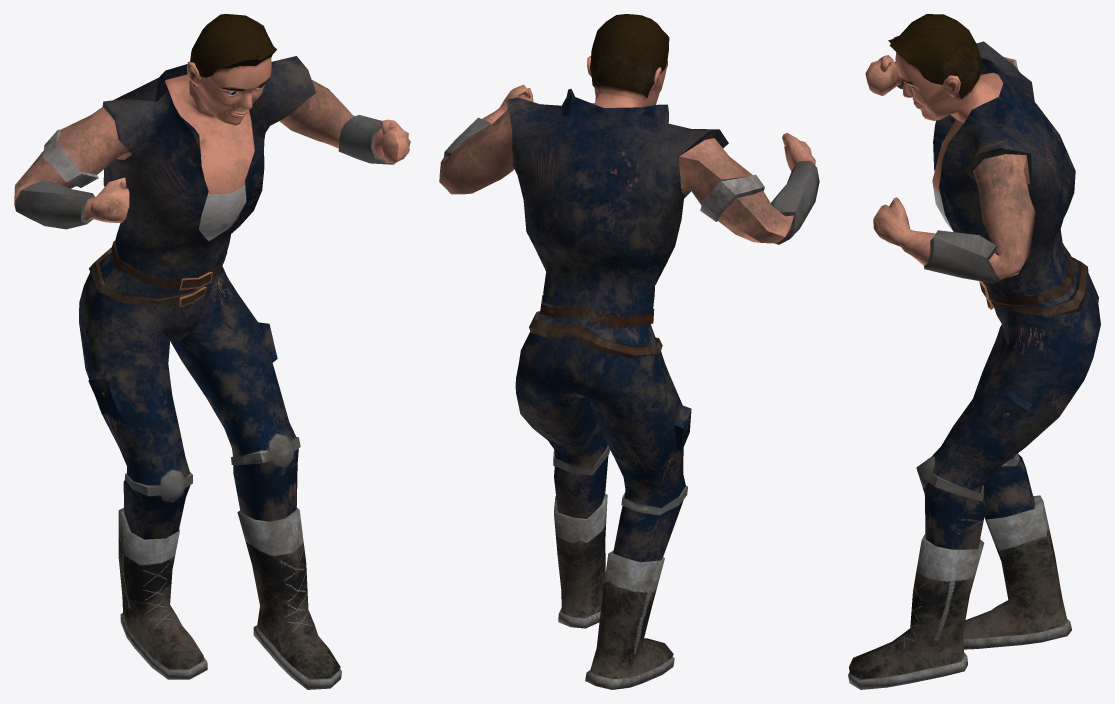
Rendered from Anim_ataque_d3_jugador.0040.obj.
3 renders of one model, left to right at view 1: azimuth 30°, elevation 25°; view 2: azimuth 150°, elevation 25°; view 3: azimuth 270°, elevation 25°, orthographic. The views are drawn at different scales.
Parts seen in each view (by area): view 1: polySurface1; view 2: polySurface1; view 3: polySurface1.
Part boxes in pixels (box(x1,y1,x2,y2)): polySurface1: box(14, 14, 410, 689); polySurface1: box(439, 14, 819, 689); polySurface1: box(848, 14, 1100, 689).
Size of the model in its own units: 5.28 by 9.13 by 3.25.
